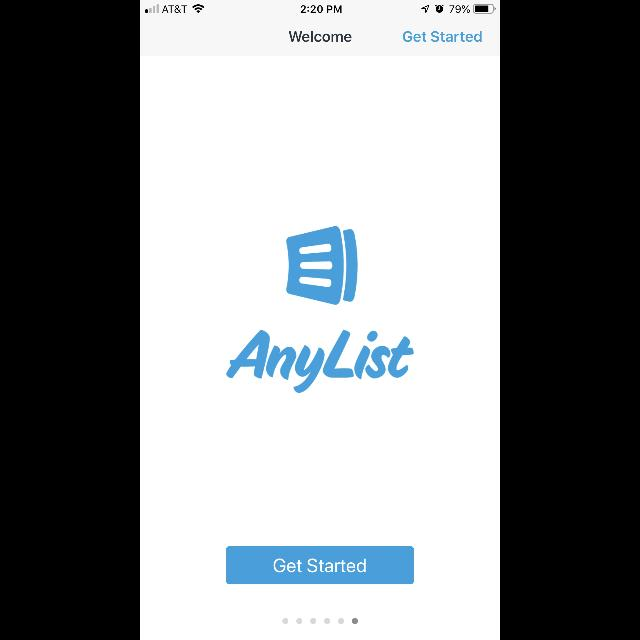image: (226, 329, 414, 393), (286, 226, 358, 306)
pageindicator: (282, 618, 358, 624)
text: (402, 32, 482, 42), (288, 32, 352, 42)
textbutton: (226, 546, 414, 584)
uppertaskbar: (140, 0, 500, 14)
